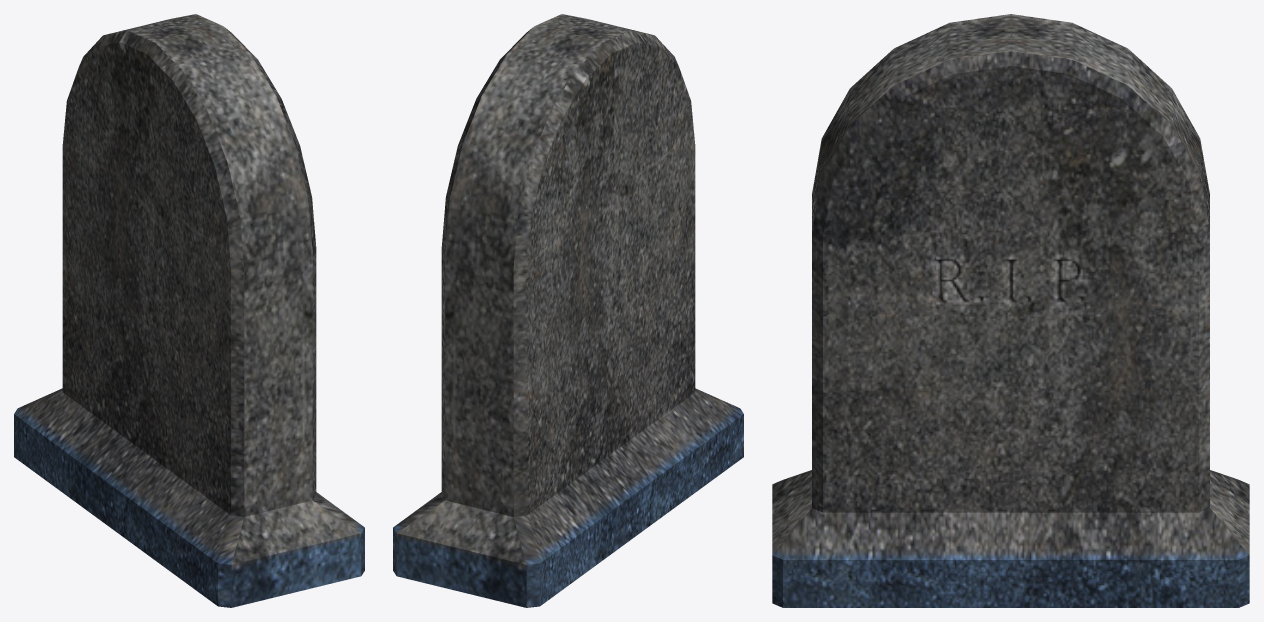
The model's file is gravestoneBlue.fbx.
The picture shows the model from 3 angles, left to right: view 1: azimuth 30°, elevation 25°; view 2: azimuth 150°, elevation 25°; view 3: azimuth 270°, elevation 25°; orthographic projection. The views are drawn at different scales.
Parts seen in each view (by area): view 1: GravestoneBlue; view 2: GravestoneBlue; view 3: GravestoneBlue.
Boxes of the visible parts, box(x1,y1,x2,y2) form: GravestoneBlue: box(14, 14, 364, 607); GravestoneBlue: box(393, 14, 743, 607); GravestoneBlue: box(772, 14, 1249, 607).
Bounding box in the file's own units: 0.9524 × 2.97 × 2.4.
Materials: 1 (1 with a texture image).
